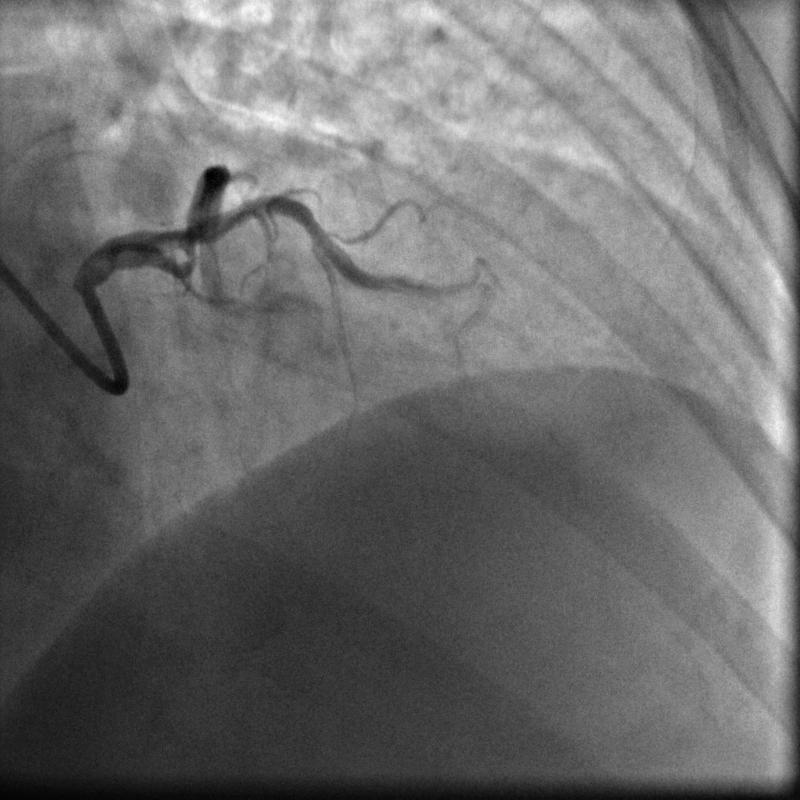Stenosis: (168, 244, 204, 277)
